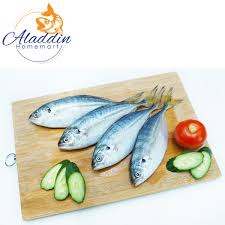Ikan Selar: (125, 82, 162, 203), (61, 94, 142, 149), (24, 88, 124, 125)
